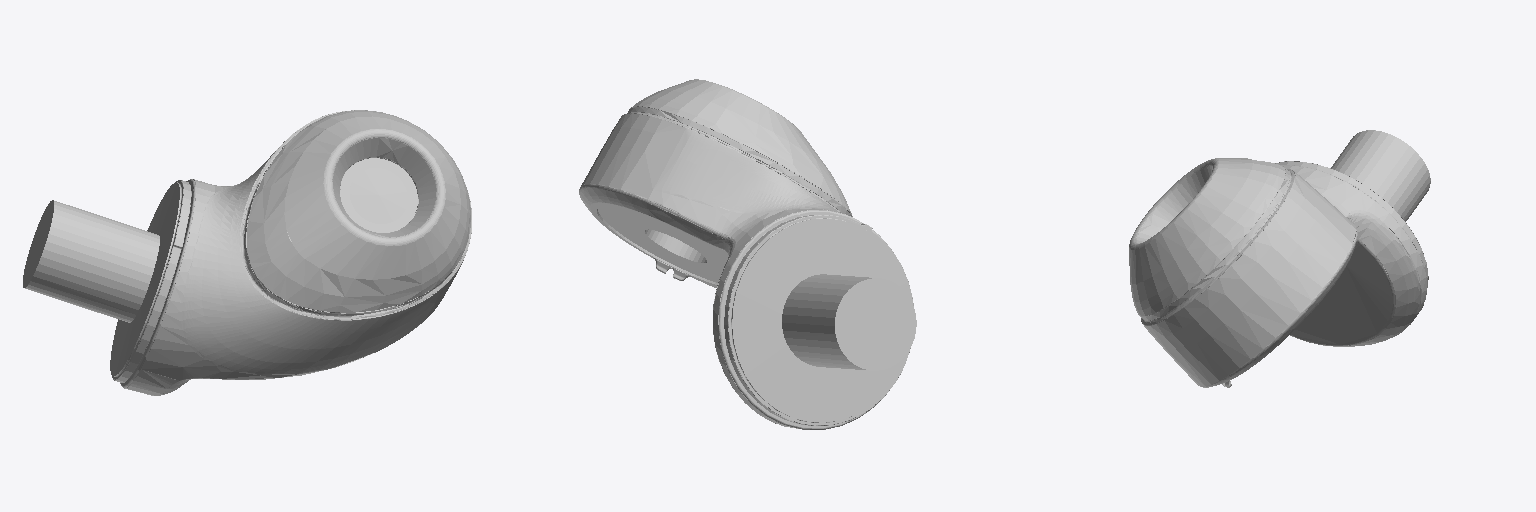
The model's file is IRB14000_rev00_Link3_R.obj.
3 renders of one model, left to right at view 1: azimuth 30°, elevation 25°; view 2: azimuth 150°, elevation 25°; view 3: azimuth 270°, elevation 25°, orthographic.
Parts seen in each view (by area): view 1: Link3_R3.0-2, Link3_R3.0, Link3_R3.0-1; view 2: Link3_R3.0-2, Link3_R3.0, Link3_R3.0-1; view 3: Link3_R3.0-2, Link3_R3.0-1, Link3_R3.0.
Boxes of the visible parts, <box> form: Link3_R3.0-2: <box>120,110,471,395</box>; Link3_R3.0: <box>23,182,179,375</box>; Link3_R3.0-1: <box>111,158,417,382</box>; Link3_R3.0-2: <box>579,79,891,429</box>; Link3_R3.0: <box>645,219,916,422</box>; Link3_R3.0-1: <box>591,203,913,425</box>; Link3_R3.0-2: <box>1129,158,1426,387</box>; Link3_R3.0-1: <box>1222,161,1428,387</box>; Link3_R3.0: <box>1331,130,1430,221</box>.
Bounding box in the file's own units: 0.1848 × 0.1226 × 0.1298.